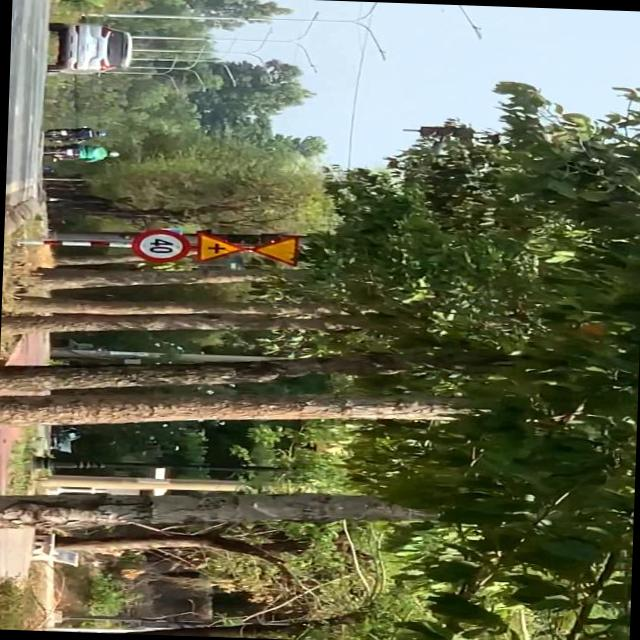P-127: (130, 228, 190, 266)
W-205a: (194, 235, 246, 262)
W-208: (248, 232, 302, 268)
